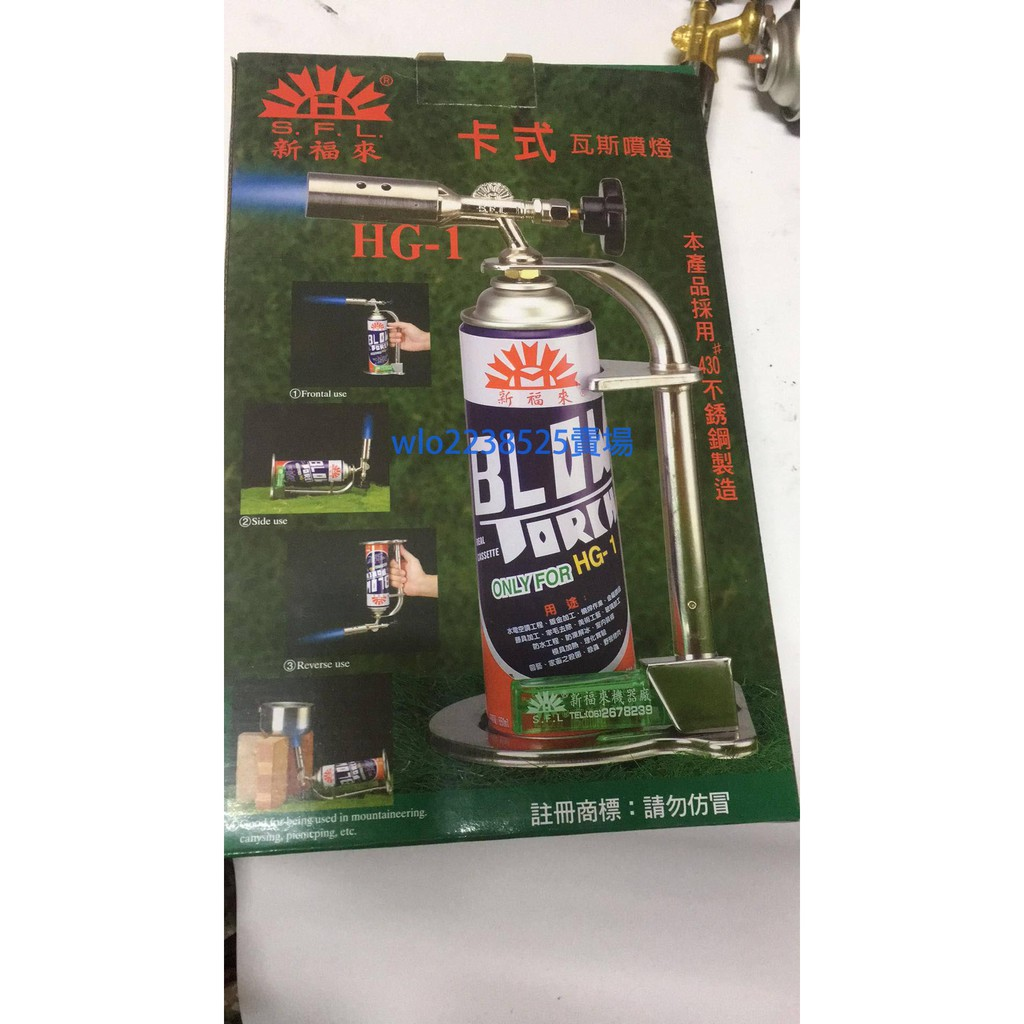gastorch: (302, 162, 753, 761)
